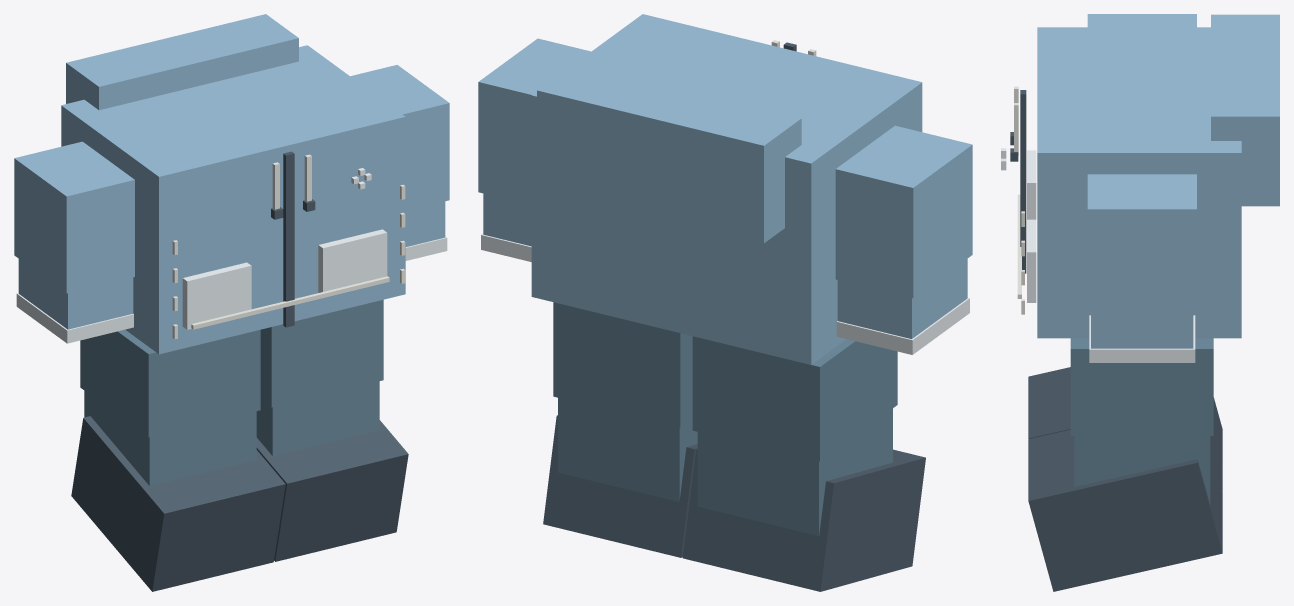
File: hoodie-sky.glb
3 views of the same model, side by side, from view 1: azimuth 30°, elevation 25°; view 2: azimuth 150°, elevation 25°; view 3: azimuth 270°, elevation 25° (orthographic). The views are drawn at different scales.
Visible parts, largest first — view 1: jacket, shoe-Right, upper-sleeve-Right, trouser-Right, shoe-Left, hood-back, trouser-Left, lower-trouser-Right, upper-sleeve-Left, lower-trouser-Left, lower-sleeve-Right, pocket--1 (+6 smaller); view 2: jacket, hood-back, upper-sleeve-Right, trouser-Right, shoe-Right, trouser-Left, lower-trouser-Right, lower-trouser-Left, upper-sleeve-Left, shoe-Left, lower-sleeve-Right, cuff-Right (+2 smaller); view 3: jacket, shoe-Left, upper-sleeve-Left, trouser-Left, hood-back, lower-trouser-Left, lower-sleeve-Left, shoe-Right, cuff-Left, upper-sleeve-Right, zip, pocket-1 (+2 smaller).
Part boxes in pixels (<box>): jacket: <box>61,45,405,354</box>; shoe-Right: <box>71,416,285,591</box>; upper-sleeve-Right: <box>14,141,134,293</box>; trouser-Right: <box>80,329,260,437</box>; shoe-Left: <box>256,420,408,561</box>; hood-back: <box>66,14,298,110</box>; trouser-Left: <box>260,299,383,407</box>; lower-trouser-Right: <box>84,391,256,485</box>; upper-sleeve-Left: <box>350,65,449,210</box>; lower-trouser-Left: <box>256,381,379,455</box>; lower-sleeve-Right: <box>18,259,133,329</box>; pocket--1: <box>182,262,251,329</box>; jacket: <box>531,14,922,364</box>; hood-back: <box>537,63,801,243</box>; upper-sleeve-Right: <box>835,125,972,298</box>; trouser-Right: <box>692,336,897,461</box>; shoe-Right: <box>682,449,925,591</box>; trouser-Left: <box>553,302,692,427</box>; lower-trouser-Right: <box>697,408,892,535</box>; lower-trouser-Left: <box>558,398,697,501</box>; upper-sleeve-Left: <box>478,38,590,204</box>; shoe-Left: <box>543,415,697,557</box>; lower-sleeve-Right: <box>837,259,967,338</box>; cuff-Right: <box>836,297,969,354</box>; jacket: <box>1037,27,1241,338</box>; shoe-Left: <box>1028,429,1222,591</box>; upper-sleeve-Left: <box>1087,174,1196,310</box>; trouser-Left: <box>1070,338,1213,435</box>; hood-back: <box>1211,14,1279,206</box>; lower-trouser-Left: <box>1074,436,1210,504</box>; lower-sleeve-Left: <box>1091,310,1193,348</box>; shoe-Right: <box>1028,367,1222,490</box>; cuff-Left: <box>1089,315,1195,362</box>; upper-sleeve-Right: <box>1087,14,1196,27</box>; zip: <box>1020,90,1026,273</box>; pocket-1: <box>1027,219,1036,302</box>.
Size of the model in its own units: 1.07 by 1.19 by 0.648.
